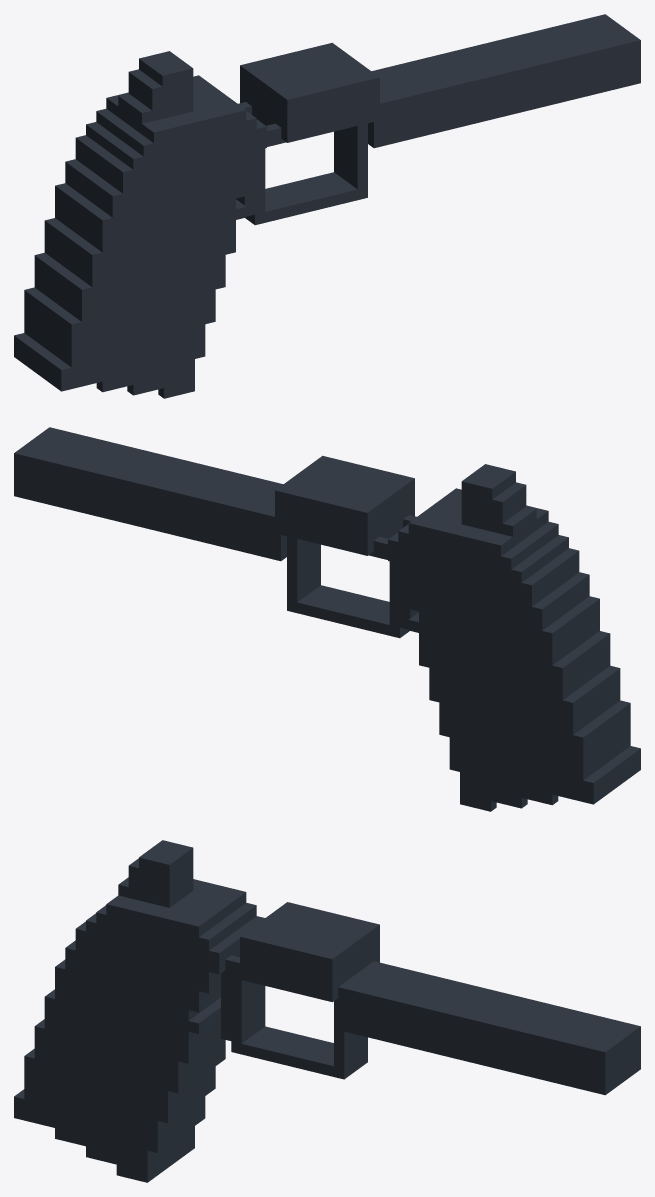
File: pistol_frame.glb
The picture shows the model from 3 angles, top to bottom: view 1: azimuth 30°, elevation 25°; view 2: azimuth 150°, elevation 25°; view 3: azimuth 330°, elevation 25°; orthographic projection.
Visible parts, largest first — view 1: pistol_frame:frame; view 2: pistol_frame:frame; view 3: pistol_frame:frame.
Part boxes in pixels (<box>): pistol_frame:frame: <box>14,14,640,398</box>; pistol_frame:frame: <box>14,427,640,811</box>; pistol_frame:frame: <box>14,840,640,1182</box>.
Bounding box in the file's own units: 0.228 × 0.116 × 0.032.
